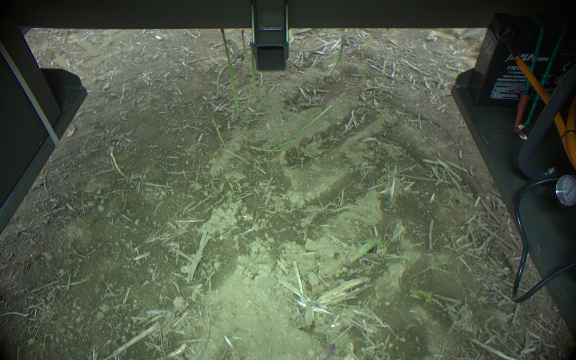aspa: (219, 28, 240, 115), (216, 53, 246, 99), (297, 103, 334, 136), (325, 35, 347, 78), (350, 237, 384, 263), (207, 102, 225, 148), (252, 84, 276, 114), (247, 41, 258, 94), (313, 342, 335, 360), (240, 26, 247, 50)
